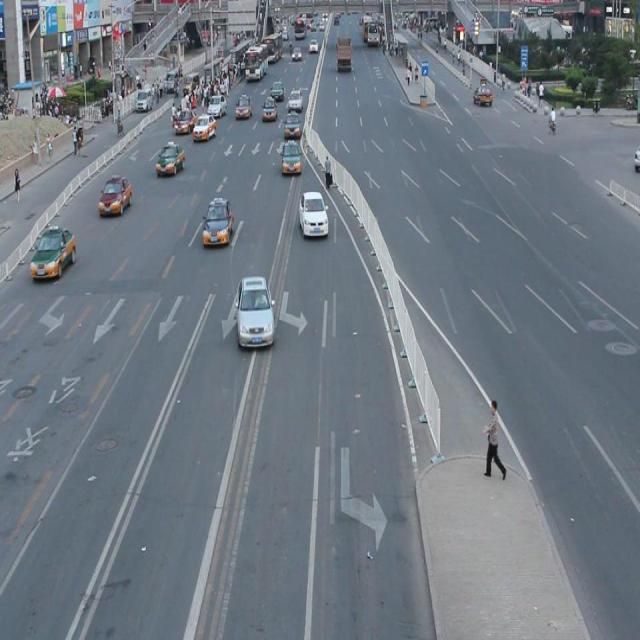car: (235, 274, 275, 349), (30, 224, 77, 281), (201, 197, 234, 247), (297, 188, 329, 238), (97, 174, 133, 218), (154, 141, 186, 177), (281, 140, 301, 175)
